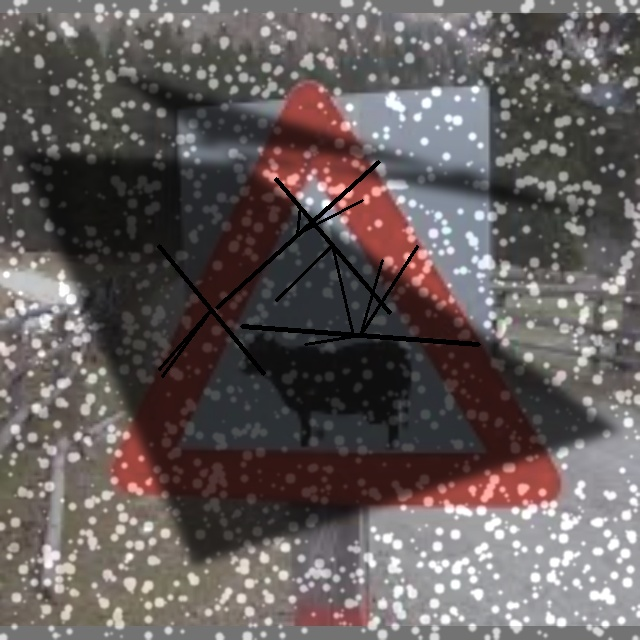Cattle: (144, 104, 543, 508)
